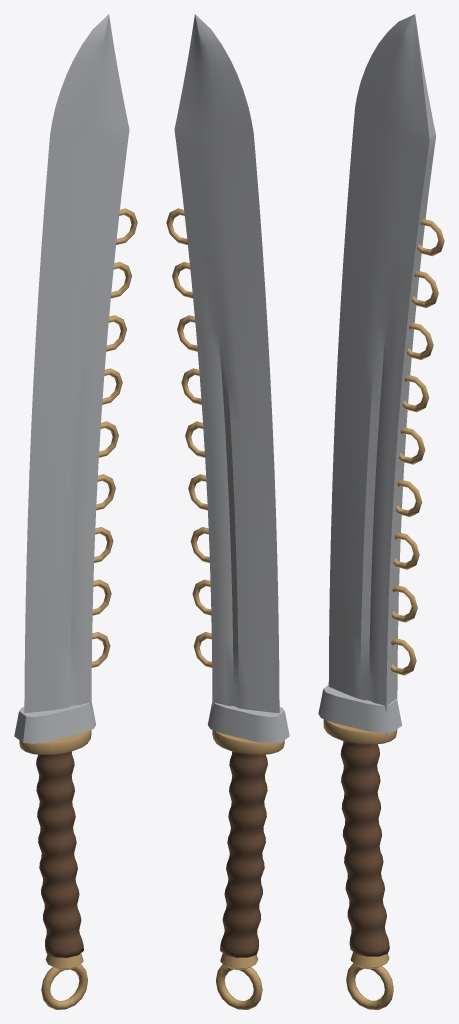
The model's file is nine-ring-broadsword.glb.
The picture shows the model from 3 angles, left to right: view 1: azimuth 30°, elevation 25°; view 2: azimuth 150°, elevation 25°; view 3: azimuth 330°, elevation 25°; orthographic projection. The views are drawn at different scales.
Parts seen in each view (by area): view 1: nine-ring-broadsword; view 2: nine-ring-broadsword; view 3: nine-ring-broadsword.
Part boxes in pixels (x1=…): nine-ring-broadsword: x1=14, y1=14, x2=137, y2=1009; nine-ring-broadsword: x1=166, y1=14, x2=289, y2=1009; nine-ring-broadsword: x1=318, y1=14, x2=444, y2=1009.
Size of the model in its own units: 0.2508 by 1.98 by 0.0988.
